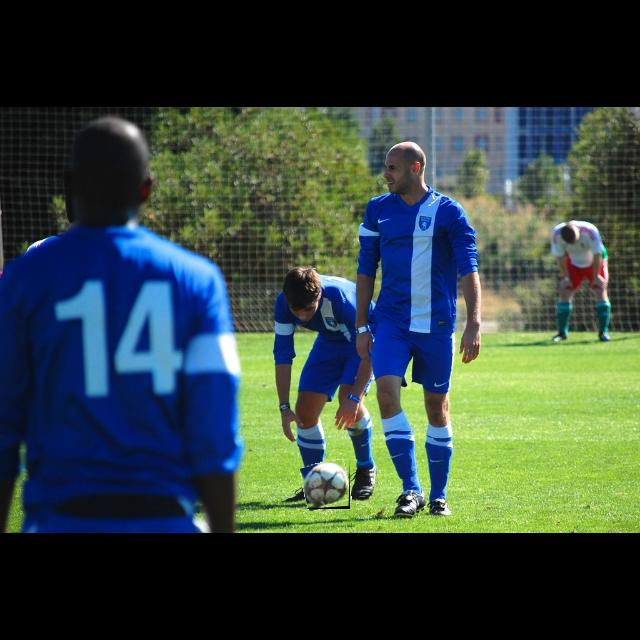Football: (302, 461, 350, 509)
